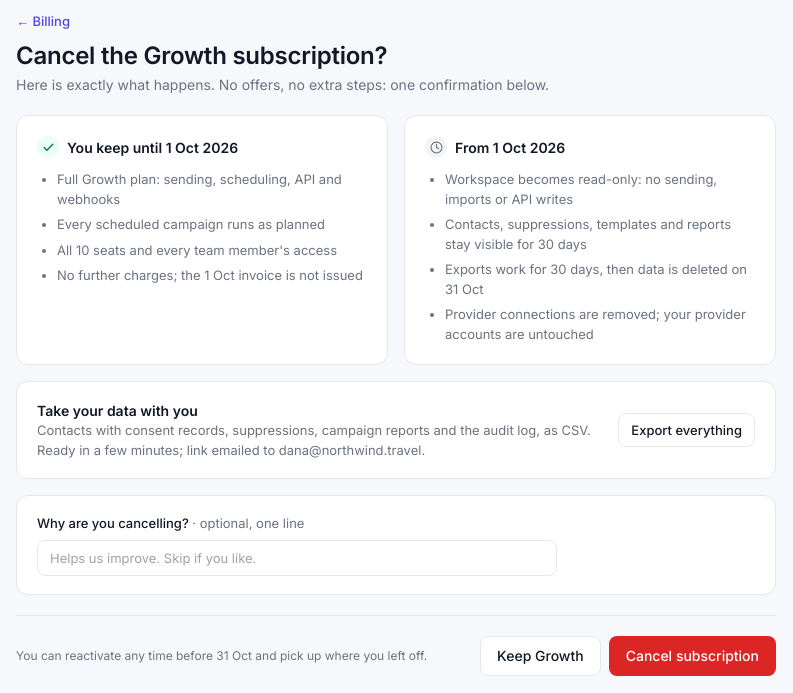
cancelling (I9) › confirms with the dates that matter and a way back (I9b)
The image size is (793, 693).
Click the button "Cancel subscription": [692, 656] box [609,636,776,676]
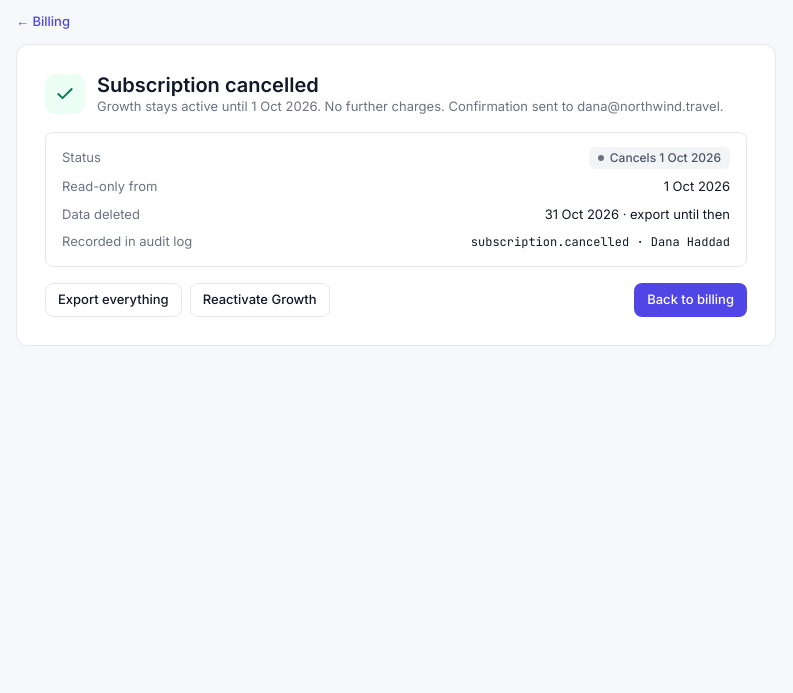
Check: the heading "Subscription cancelled" is shown, box [97,72,319,96]
Check: the text "Read-only from" is shown, box [62,177,158,196]
Check: the text "31 Oct 2026 · export until then" is shown, box [545,204,730,224]
